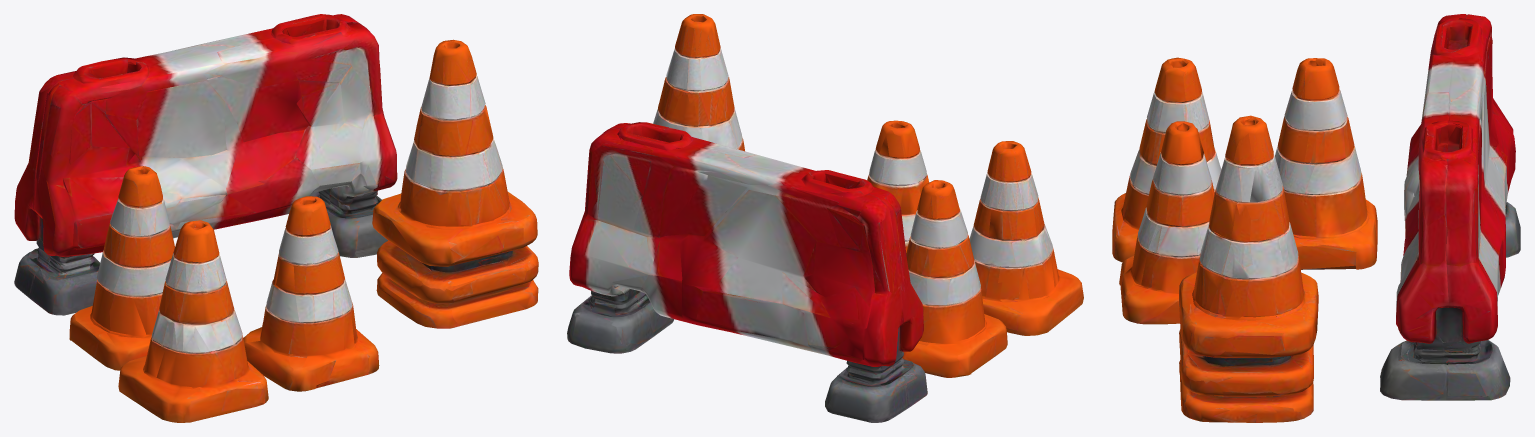
The model's file is prop-cones.glb.
3 renders of one model, left to right at view 1: azimuth 30°, elevation 25°; view 2: azimuth 150°, elevation 25°; view 3: azimuth 270°, elevation 25°, orthographic. The views are drawn at different scales.
Size of the model in its own units: 1.9 by 1.1 by 1.52.
1 material, 1 textured.
